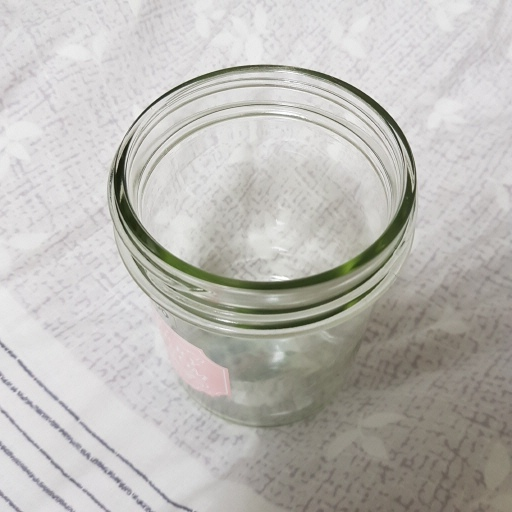Glass_5: (104, 66, 417, 426)
